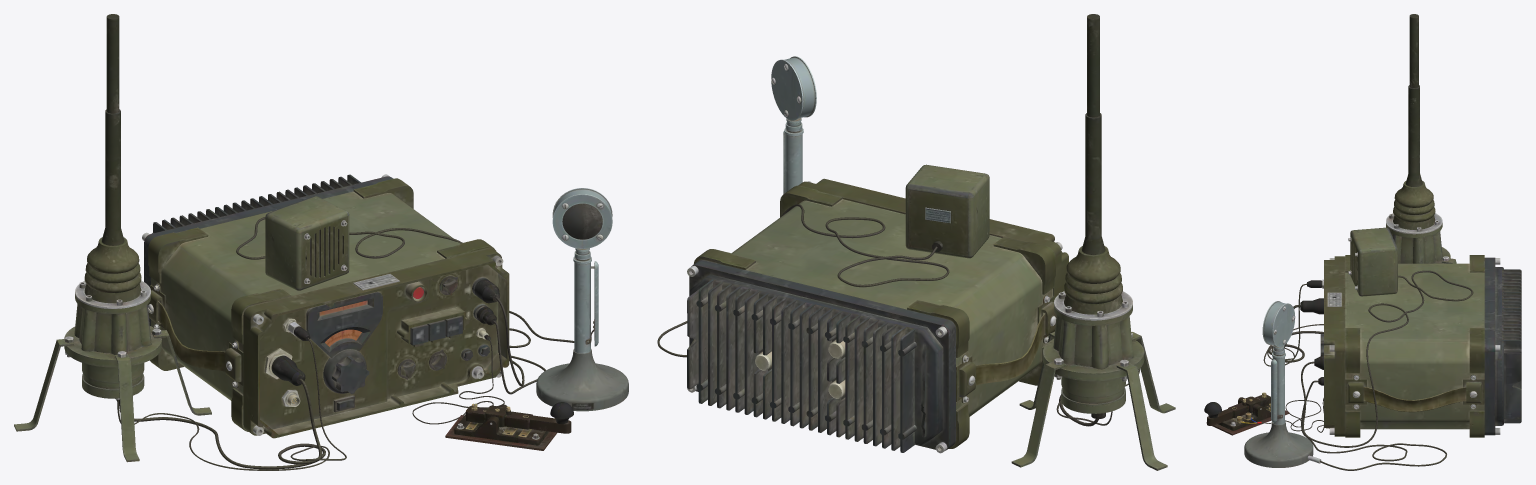
Rendered from vintage_radio_transceiver.glb.
The picture shows the model from 3 angles, left to right: view 1: azimuth 30°, elevation 25°; view 2: azimuth 150°, elevation 25°; view 3: azimuth 270°, elevation 25°; orthographic projection. The views are drawn at different scales.
Visible parts, largest first — view 1: vintage_radio_transceiver, vintage_radio_transceiver_cable; view 2: vintage_radio_transceiver, vintage_radio_transceiver_cable; view 3: vintage_radio_transceiver, vintage_radio_transceiver_cable.
Part boxes in pixels (box(x1,y1,x2,y2)): vintage_radio_transceiver: box(142, 174, 509, 438); vintage_radio_transceiver_cable: box(14, 14, 628, 470); vintage_radio_transceiver: box(687, 178, 1068, 453); vintage_radio_transceiver_cable: box(657, 14, 1175, 470); vintage_radio_transceiver: box(1320, 255, 1521, 437); vintage_radio_transceiver_cable: box(1204, 14, 1473, 470).
Size of the model in its own units: 0.574 by 0.4344 by 0.4131.
2 materials, 2 textured.
